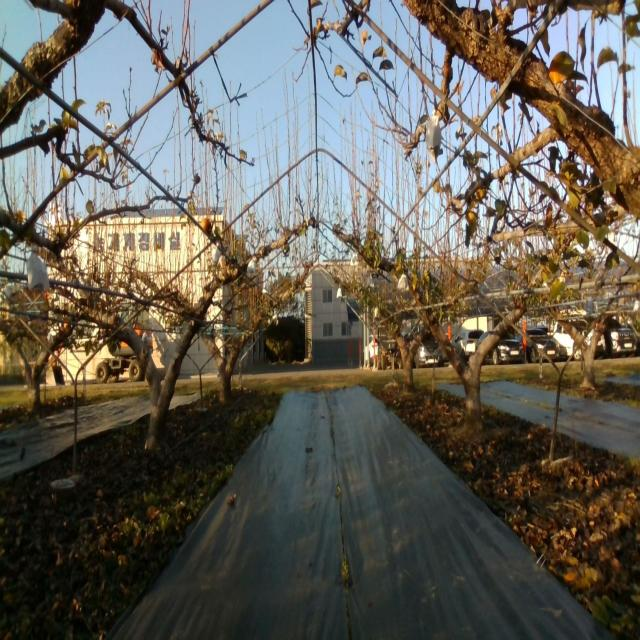pearbags: (26, 244, 51, 292), (425, 109, 441, 164), (211, 242, 221, 266), (397, 273, 409, 292)
